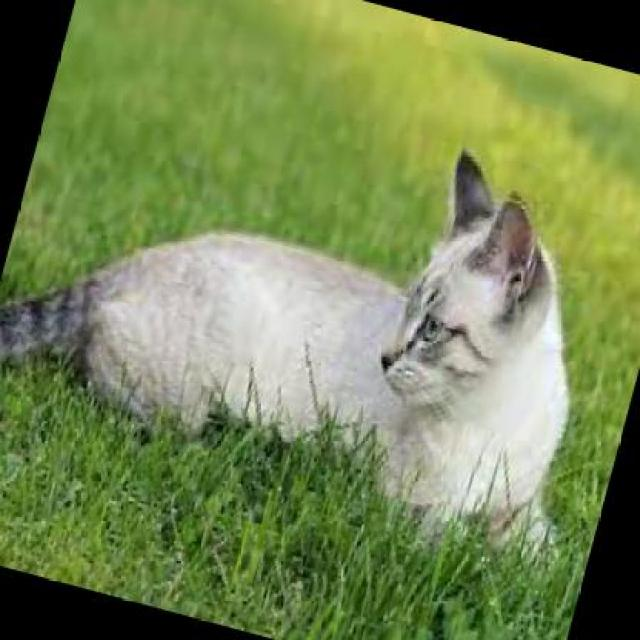animals: (31, 41, 638, 557)
